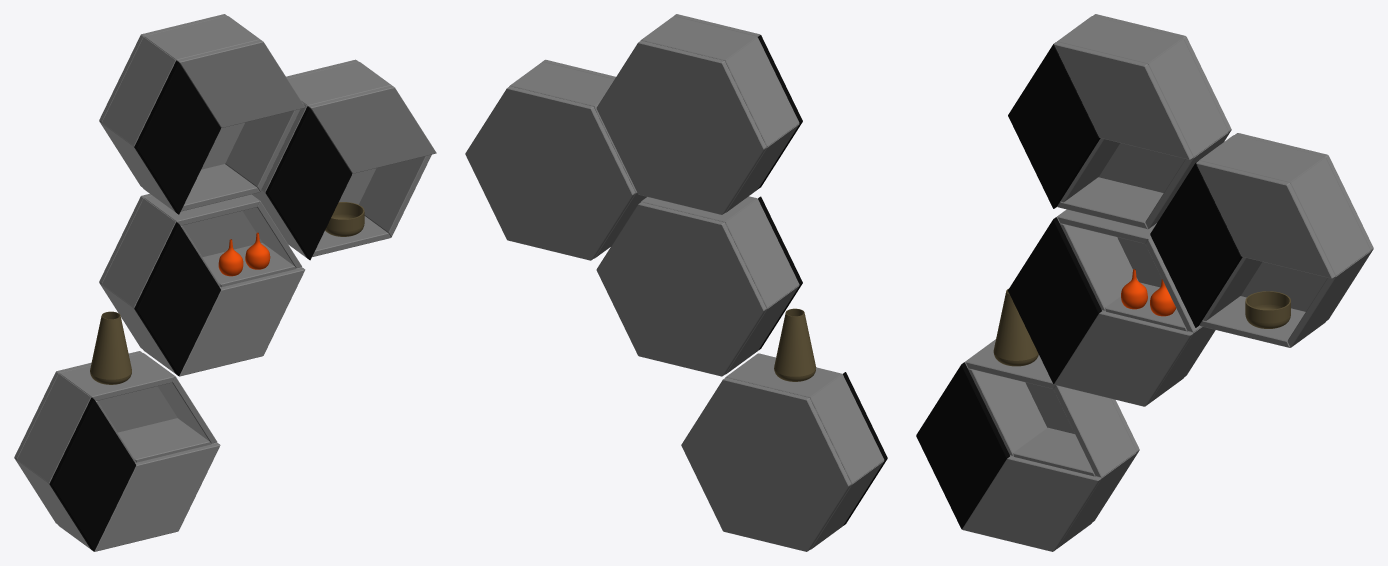
Rendered from Shelf.FBX.
The picture shows the model from 3 angles, left to right: view 1: azimuth 30°, elevation 25°; view 2: azimuth 150°, elevation 25°; view 3: azimuth 330°, elevation 25°; orthographic projection. The views are drawn at different scales.
Parts seen in each view (by area): view 1: Object021, Object024, Object023, Object022, Line007, Line006, Line004, Line005; view 2: Object021, Object024, Object023, Object022, Line007; view 3: Object021, Object022, Object024, Object023, Line007, Line006, Line005, Line004.
Boxes of the visible parts, left/top/right/bottom form: Object021: left=99, top=14, right=305, bottom=214; Object024: left=14, top=351, right=220, bottom=551; Object023: left=99, top=193, right=305, bottom=376; Object022: left=252, top=59, right=436, bottom=260; Line007: left=90, top=311, right=131, bottom=384; Line006: left=325, top=202, right=364, bottom=236; Line004: left=245, top=232, right=270, bottom=269; Line005: left=218, top=239, right=243, bottom=276; Object021: left=596, top=14, right=802, bottom=214; Object024: left=681, top=353, right=887, bottom=551; Object023: left=596, top=196, right=802, bottom=376; Object022: left=465, top=59, right=646, bottom=260; Line007: left=774, top=308, right=816, bottom=381; Object021: left=1008, top=14, right=1231, bottom=229; Object022: left=1150, top=133, right=1373, bottom=347; Object024: left=916, top=339, right=1139, bottom=551; Object023: left=1008, top=209, right=1215, bottom=406; Line007: left=993, top=288, right=1038, bottom=366; Line006: left=1245, top=291, right=1290, bottom=328; Line005: left=1121, top=269, right=1147, bottom=309; Line004: left=1150, top=279, right=1175, bottom=316.
Bounding box in the file's own units: 0.6935 × 0.809 × 0.1216.
